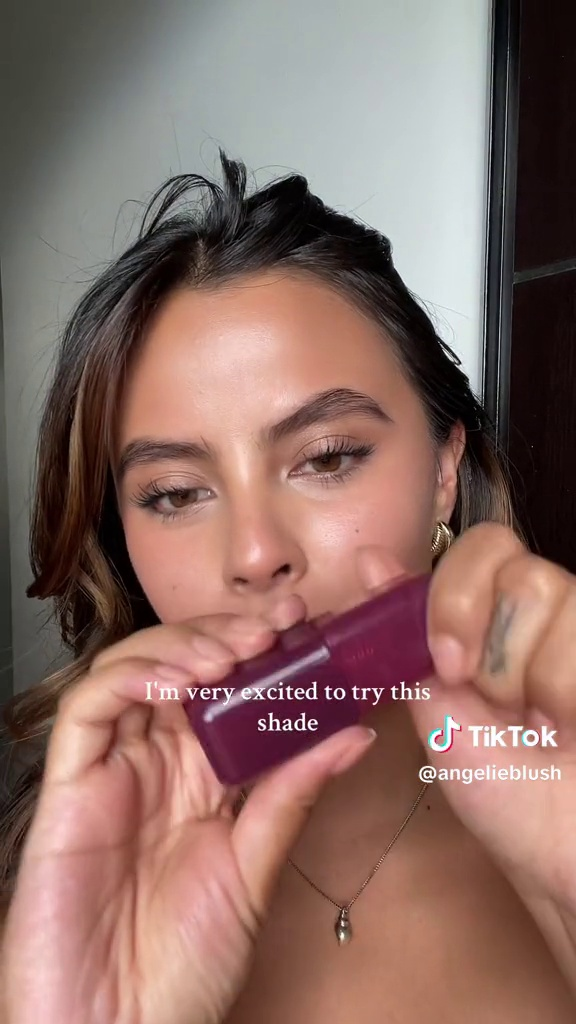train' :'yolo_data/train/images',: (175, 561, 458, 800)
